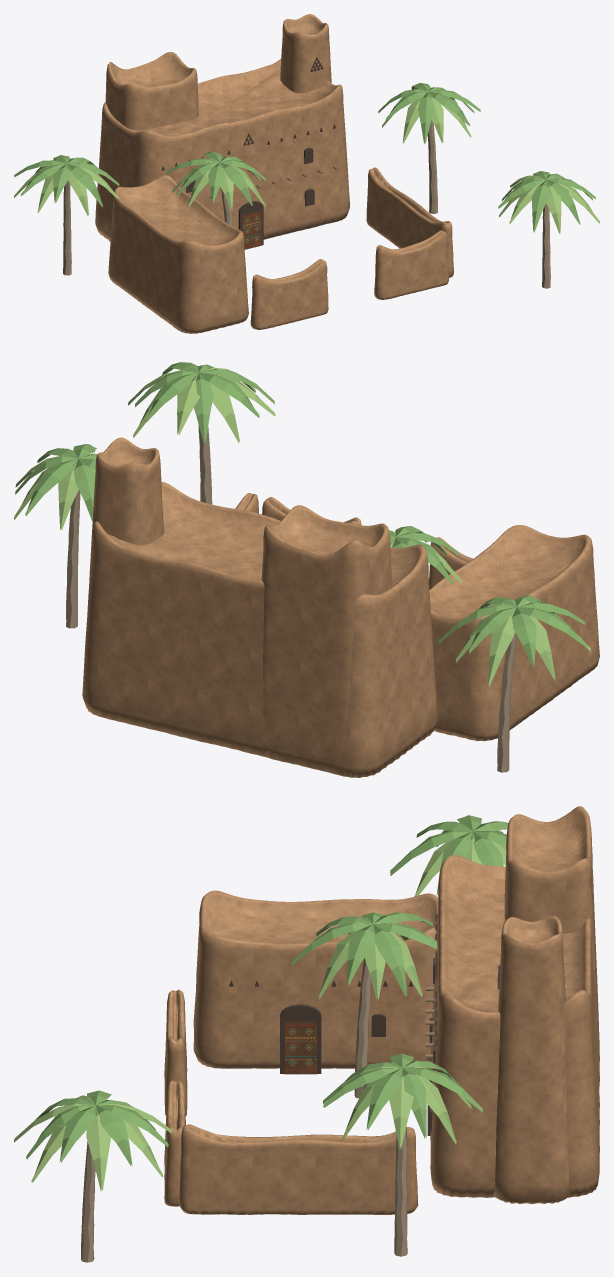
The model's file is courtyard.glb.
3 renders of one model, top to bottom at view 1: azimuth 30°, elevation 25°; view 2: azimuth 150°, elevation 25°; view 3: azimuth 270°, elevation 25°, orthographic. The views are drawn at different scales.
Visible parts, largest first — view 1: north, west, north_hi, south_l, eastwall, south_r, tower, trunk.002, trunk.001, DoorMain, trunk.003, frond.051 (+5 smaller); view 2: north, north_hi, west, tower, trunk.002, trunk.001, frond.032, frond.033, frond.017, frond.047, trunk.003, frond.019 (+9 smaller); view 3: west, north, tower, eastwall, north_hi, south_r, south_l, DoorWest, trunk.001, trunk.003, trunk, opening.001 (+20 smaller).
Boxes of the visible parts, box(x1,y1,x2,y2) form: north: box(95, 58, 349, 241); west: box(108, 175, 248, 333); north_hi: box(105, 52, 198, 130); south_l: box(250, 259, 328, 329); eastwall: box(366, 167, 453, 277); south_r: box(374, 230, 448, 299); tower: box(280, 14, 331, 93); trunk.002: box(63, 180, 71, 275); trunk.001: box(427, 120, 437, 213); DoorMain: box(242, 210, 261, 249); trunk.003: box(542, 203, 550, 288); frond.051: box(531, 180, 548, 232); north: box(82, 481, 437, 777); north_hi: box(261, 505, 391, 775); west: box(429, 525, 599, 741); tower: box(89, 437, 164, 579); trunk.002: box(497, 632, 516, 772); trunk.001: box(66, 490, 80, 628); frond.032: box(487, 609, 515, 686); frond.033: box(512, 607, 536, 666); frond.017: box(25, 458, 77, 516); frond.047: box(194, 373, 213, 443); trunk.003: box(198, 425, 212, 504); frond.019: box(73, 459, 95, 521); west: box(193, 890, 438, 1068); north: box(430, 855, 599, 1197); tower: box(493, 915, 570, 1203); eastwall: box(179, 1124, 418, 1214); north_hi: box(504, 806, 599, 1079); south_r: box(164, 1080, 185, 1206); south_l: box(164, 989, 187, 1115); DoorWest: box(284, 1021, 316, 1074); trunk.001: box(394, 1126, 407, 1256); trunk.003: box(81, 1141, 95, 1262); trunk: box(354, 958, 371, 1098); opening.001: box(280, 1004, 321, 1073).
Size of what is drawn, in the model's own units: 27.34 by 10.38 by 20.56.
8 materials, 2 textured.
